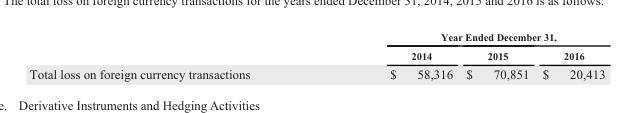table: (28, 28, 604, 81)
table column: (28, 28, 319, 81), (319, 28, 458, 81), (458, 28, 535, 81), (535, 28, 604, 81)
table column header: (28, 28, 604, 63)
table row: (28, 45, 604, 63), (28, 63, 604, 81), (28, 28, 604, 45)
table spanning cell: (319, 28, 604, 45)
